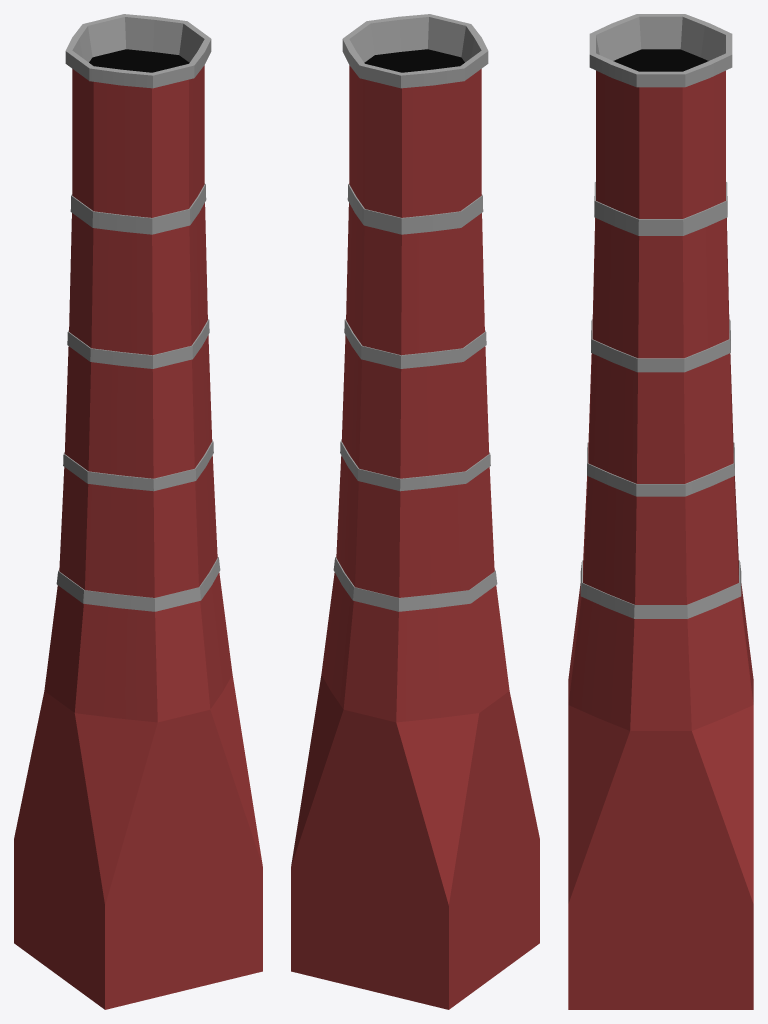
The model's file is Chimney.fbx.
3 renders of one model, left to right at view 1: azimuth 30°, elevation 25°; view 2: azimuth 150°, elevation 25°; view 3: azimuth 270°, elevation 25°, orthographic.
Visible parts, largest first — view 1: Chimney; view 2: Chimney; view 3: Chimney.
Boxes of the visible parts, box(x1,y1,x2,y2) form: Chimney: box(14, 14, 262, 1009); Chimney: box(291, 14, 539, 1009); Chimney: box(568, 14, 753, 1009).
Bounding box in the file's own units: 0.0136 × 0.075 × 0.0136.
